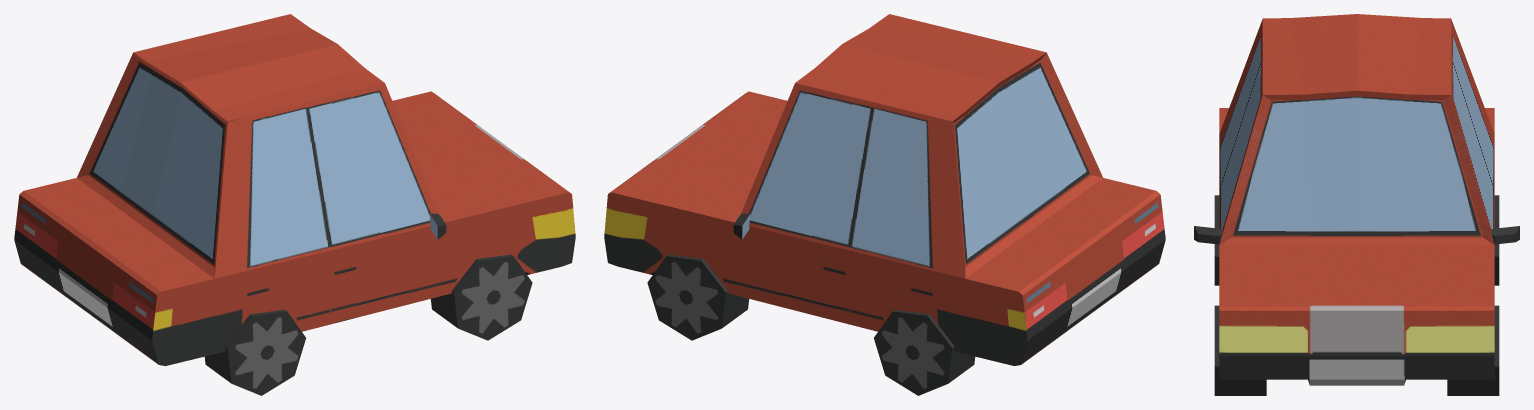
The model's file is Carro2LOD0.fbx.
The picture shows the model from 3 angles, left to right: view 1: azimuth 30°, elevation 25°; view 2: azimuth 150°, elevation 25°; view 3: azimuth 270°, elevation 25°; orthographic projection.
Visible parts, largest first — view 1: carro2LOD0; view 2: carro2LOD0; view 3: carro2LOD0.
Part boxes in pixels (left/top/right/bottom): carro2LOD0: left=14, top=14, right=575, bottom=395; carro2LOD0: left=604, top=14, right=1165, bottom=395; carro2LOD0: left=1194, top=14, right=1519, bottom=395.
Bounding box in the file's own units: 460 × 274 × 307.
